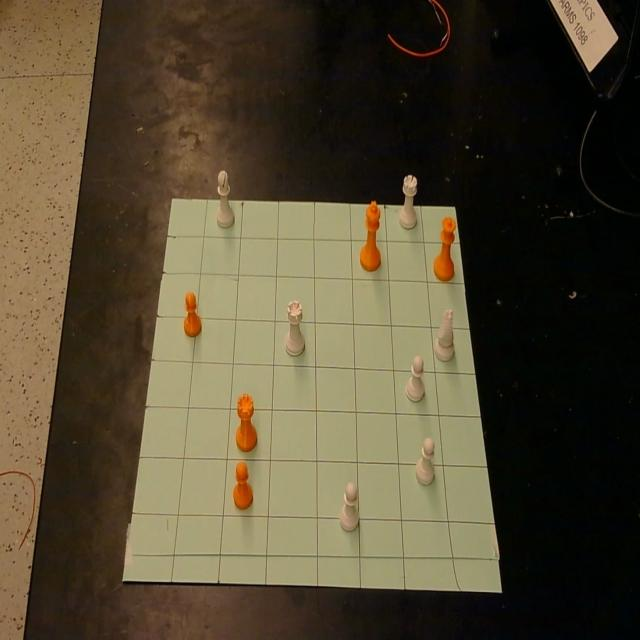orange_king: (360, 200, 381, 272)
orange_pawn: (233, 461, 253, 510), (184, 292, 202, 337)
orange_queen: (434, 217, 456, 282)
orange_rook: (235, 393, 258, 451)
white_bishop: (216, 169, 234, 228)
white_knight: (434, 309, 454, 362)
white_pawn: (415, 438, 435, 486), (339, 481, 358, 531), (406, 354, 424, 402)
white_rook: (285, 299, 305, 357), (400, 174, 418, 228)
